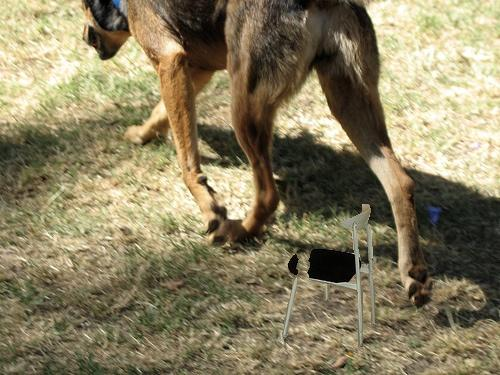tampered: (283, 205, 375, 348)
